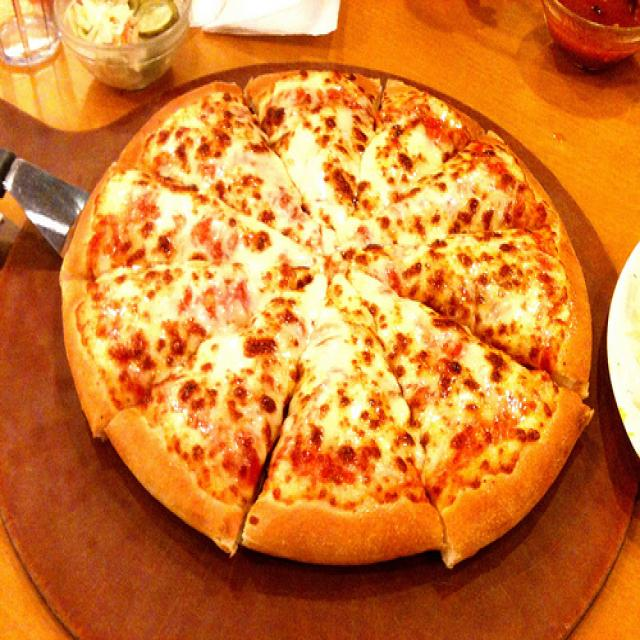Wet Waste: (57, 56, 598, 582)
